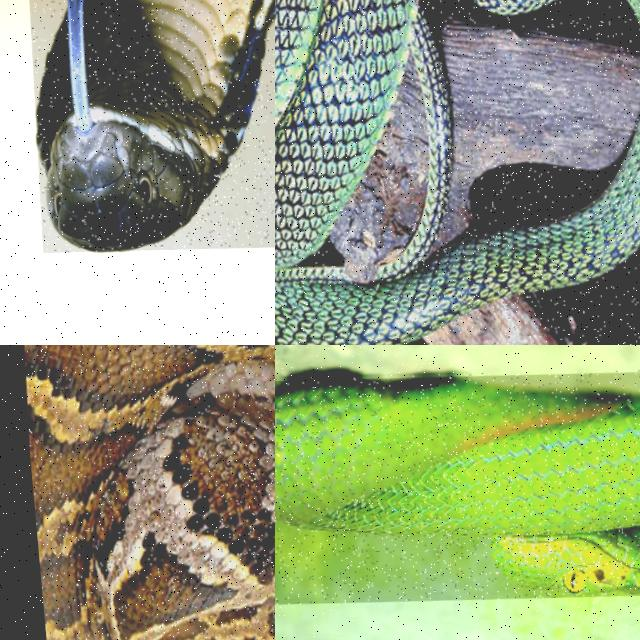Chrysopelea ornata: (275, 0, 639, 344)
Ophiophagus hannah: (37, 0, 274, 250)
Python bivittatus: (25, 345, 274, 639)
Trimeresurus macrops: (275, 375, 639, 589)
